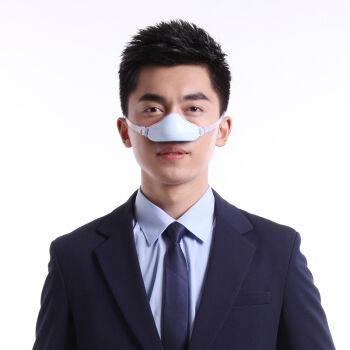WRONG: (131, 85, 228, 182)
